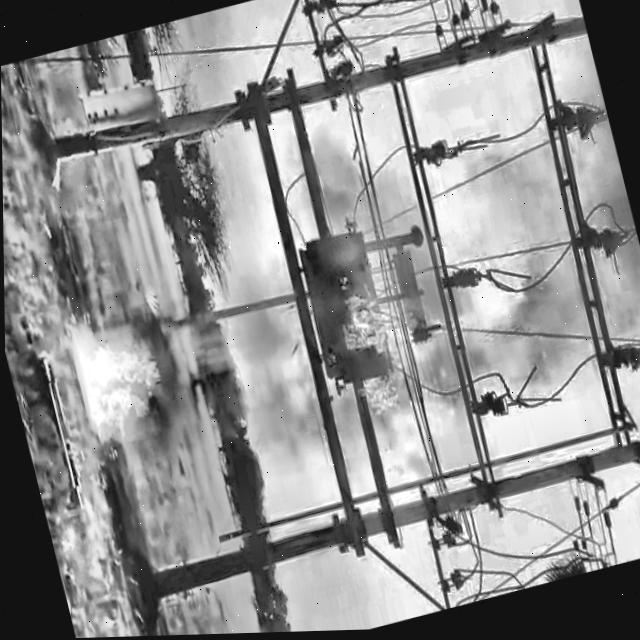Fire: (300, 258, 448, 441), (58, 299, 181, 472)
